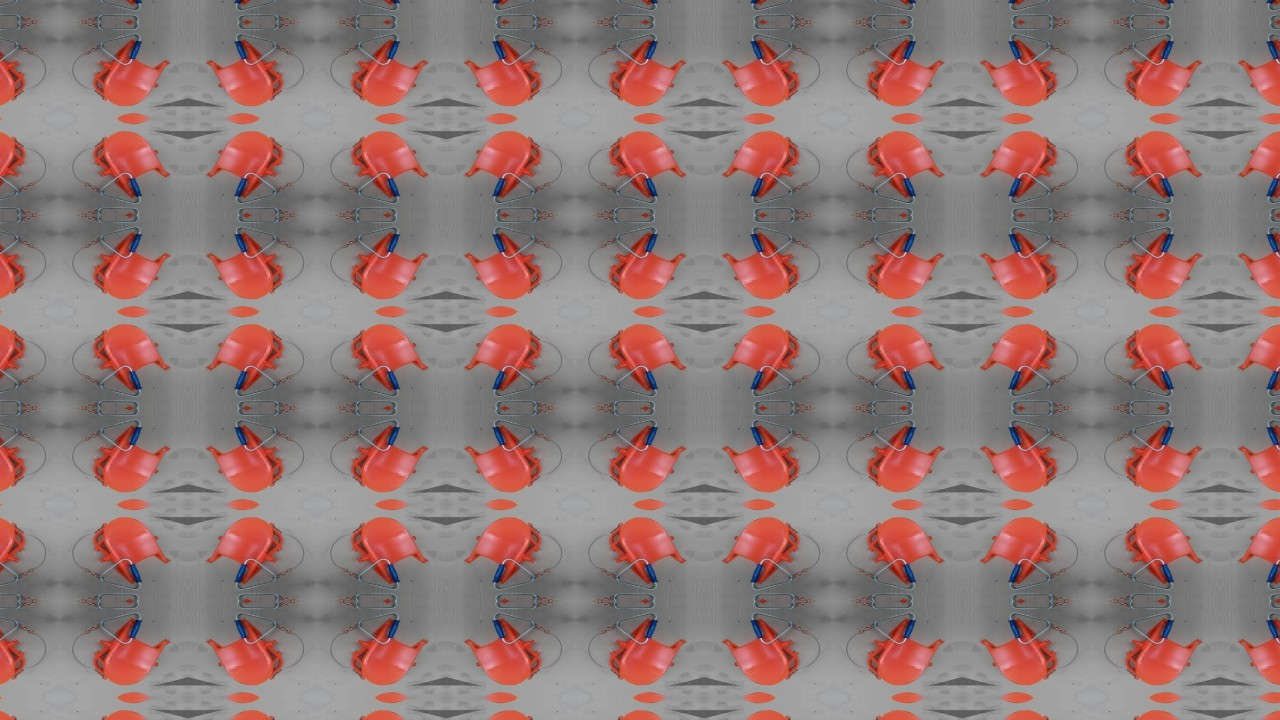chock: (85, 33, 175, 109), (198, 33, 288, 109), (344, 33, 434, 109), (457, 33, 547, 109), (603, 33, 693, 109), (716, 33, 806, 109), (862, 33, 952, 109), (975, 33, 1065, 109), (1121, 33, 1211, 109), (85, 126, 175, 202), (198, 126, 288, 202), (344, 126, 434, 202), (457, 126, 547, 202), (603, 126, 693, 202), (716, 126, 806, 202), (862, 126, 952, 202), (975, 126, 1065, 202), (1121, 126, 1211, 202), (85, 227, 175, 303), (198, 227, 288, 303), (344, 227, 434, 303), (457, 227, 547, 303), (603, 227, 693, 303), (716, 227, 806, 303), (862, 227, 952, 303), (975, 227, 1065, 303), (1121, 227, 1211, 303), (85, 320, 175, 396), (198, 320, 288, 396), (344, 320, 434, 396), (457, 320, 547, 396), (603, 320, 693, 396), (716, 320, 806, 396), (862, 320, 952, 396), (975, 320, 1065, 396), (1121, 320, 1211, 396), (85, 421, 175, 497), (198, 421, 288, 497), (344, 421, 434, 497), (457, 421, 547, 497), (603, 421, 693, 497), (716, 421, 806, 497), (862, 421, 952, 497), (975, 421, 1065, 497), (1121, 421, 1211, 497), (85, 514, 175, 590), (198, 514, 288, 590), (344, 514, 434, 590), (457, 514, 547, 590), (603, 514, 693, 590), (716, 514, 806, 590), (862, 514, 952, 590), (975, 514, 1065, 590), (1121, 514, 1211, 590), (85, 615, 175, 691), (198, 615, 288, 691), (344, 615, 434, 691), (457, 615, 547, 691), (603, 615, 693, 691), (716, 615, 806, 691), (862, 615, 952, 691), (975, 615, 1065, 691), (1121, 615, 1211, 691), (1234, 33, 1280, 109), (1234, 126, 1280, 202), (1234, 227, 1280, 303), (1234, 320, 1280, 396), (1234, 421, 1280, 497), (1234, 514, 1280, 590), (1234, 615, 1280, 691), (0, 33, 29, 109), (0, 126, 29, 202), (0, 227, 29, 303), (0, 320, 29, 396), (0, 421, 29, 497), (0, 514, 29, 590), (0, 615, 29, 691), (85, 708, 175, 720), (198, 708, 288, 720), (344, 708, 434, 720), (457, 708, 547, 720), (603, 708, 693, 720), (716, 708, 806, 720), (862, 708, 952, 720), (975, 708, 1065, 720), (1121, 708, 1211, 720), (85, 0, 175, 8), (198, 0, 288, 8), (344, 0, 434, 8), (457, 0, 547, 8), (603, 0, 693, 8), (716, 0, 806, 8), (862, 0, 952, 8), (975, 0, 1065, 8), (1121, 0, 1211, 8)
